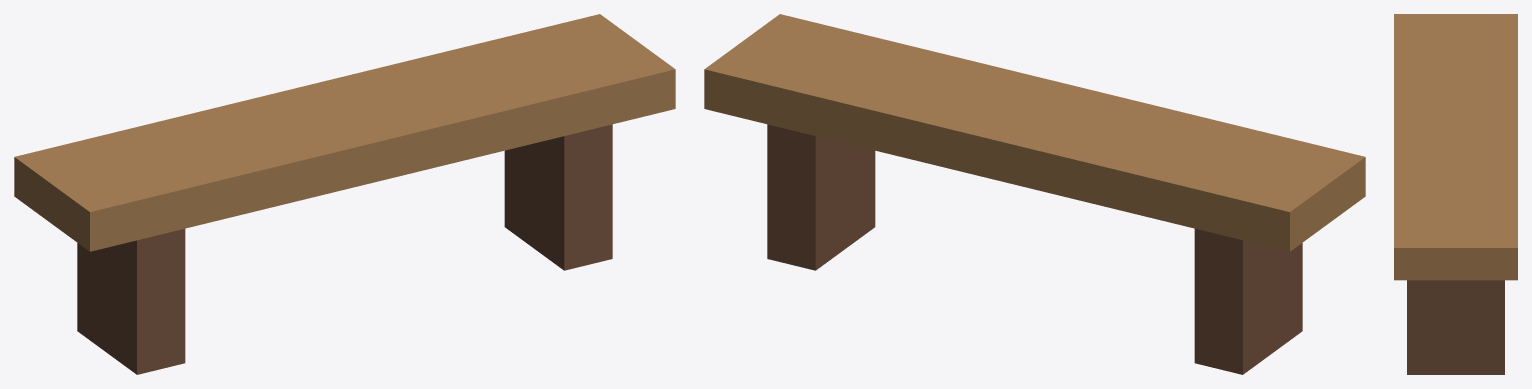
Rendered from guest_bench.glb.
3 views of the same model, side by side, from view 1: azimuth 30°, elevation 25°; view 2: azimuth 150°, elevation 25°; view 3: azimuth 270°, elevation 25° (orthographic). The views are drawn at different scales.
Parts seen in each view (by area): view 1: guest_bench; view 2: guest_bench; view 3: guest_bench.
Part boxes in pixels (left/top/right/bottom): guest_bench: left=14, top=14, right=675, bottom=374; guest_bench: left=704, top=14, right=1365, bottom=374; guest_bench: left=1394, top=14, right=1517, bottom=374.
Bounding box in the file's own units: 1.7 × 0.505 × 0.38.
